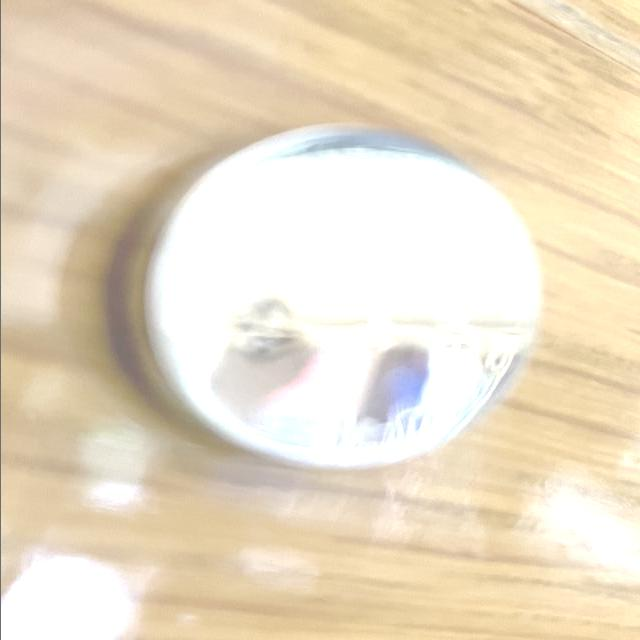COIN: (111, 121, 540, 470)
